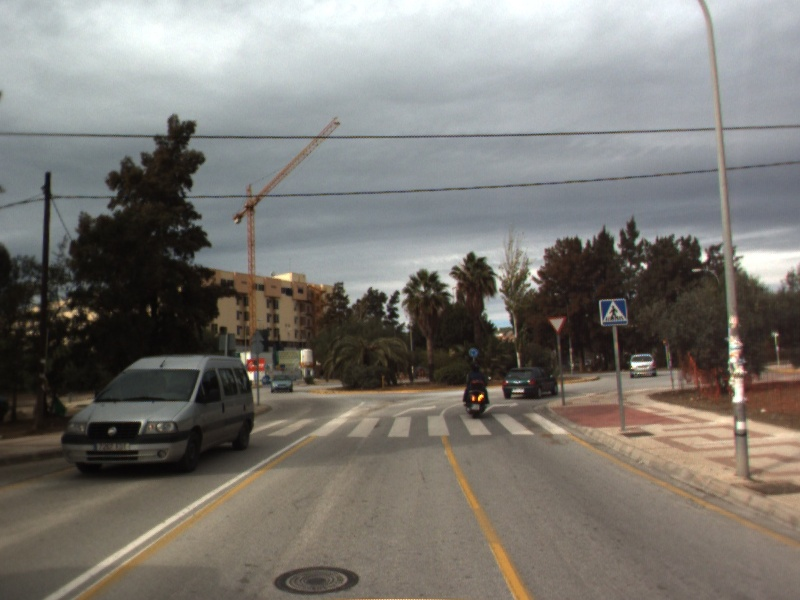RIGHT: (390, 403, 438, 419), (482, 400, 521, 415)
